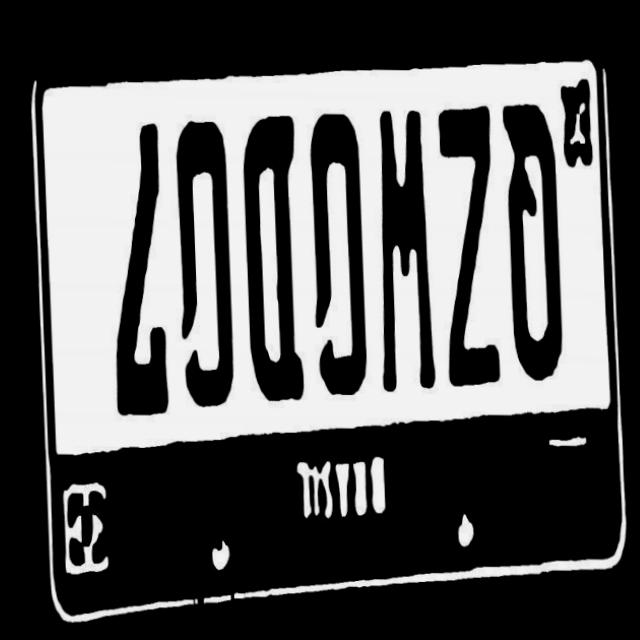0: (302, 105, 370, 402), (171, 120, 233, 409)
7: (105, 121, 171, 432)
d: (235, 102, 305, 410)
q: (497, 94, 566, 384)
w: (371, 103, 435, 397)
z: (433, 99, 502, 401)
